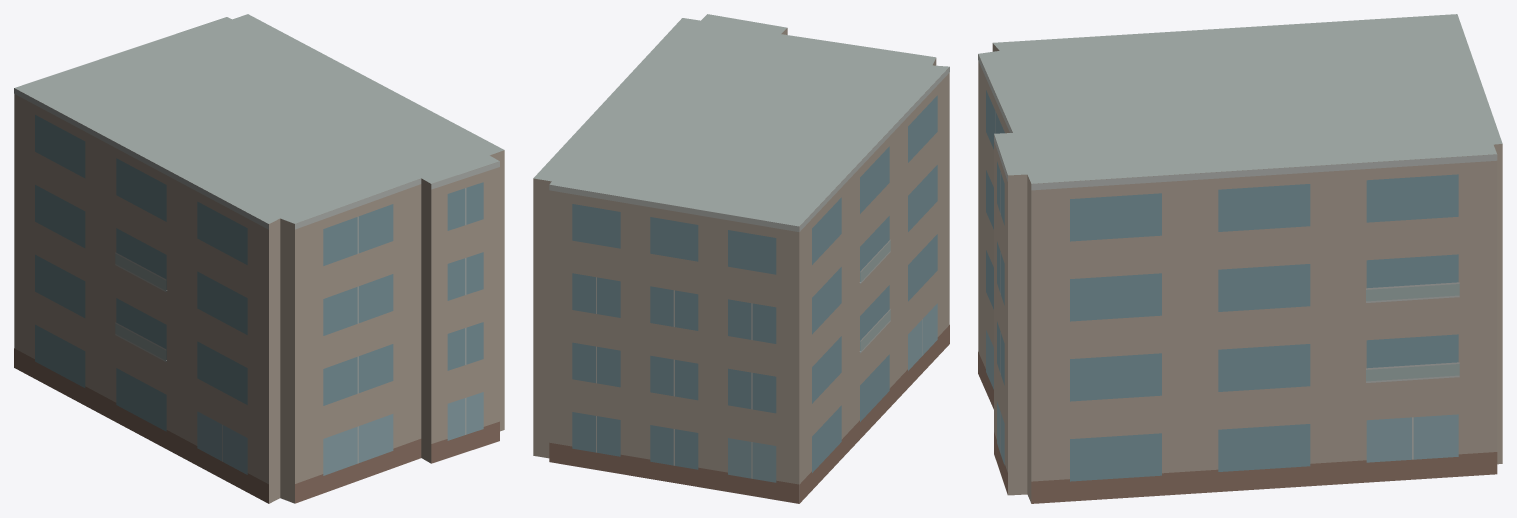
The model's file is survey-upis-32530311.glb.
3 renders of one model, left to right at view 1: azimuth 30°, elevation 25°; view 2: azimuth 150°, elevation 25°; view 3: azimuth 270°, elevation 25°, orthographic. The views are drawn at different scales.
Parts seen in each view (by area): view 1: survey-upis-32530311.tmp; view 2: survey-upis-32530311.tmp; view 3: survey-upis-32530311.tmp.
Part boxes in pixels (bbox=[...]): survey-upis-32530311.tmp: bbox=[14, 14, 504, 503]; survey-upis-32530311.tmp: bbox=[533, 14, 949, 503]; survey-upis-32530311.tmp: bbox=[978, 14, 1502, 503].
Bounding box in the file's own units: 13.55 × 11.9 × 17.68.
